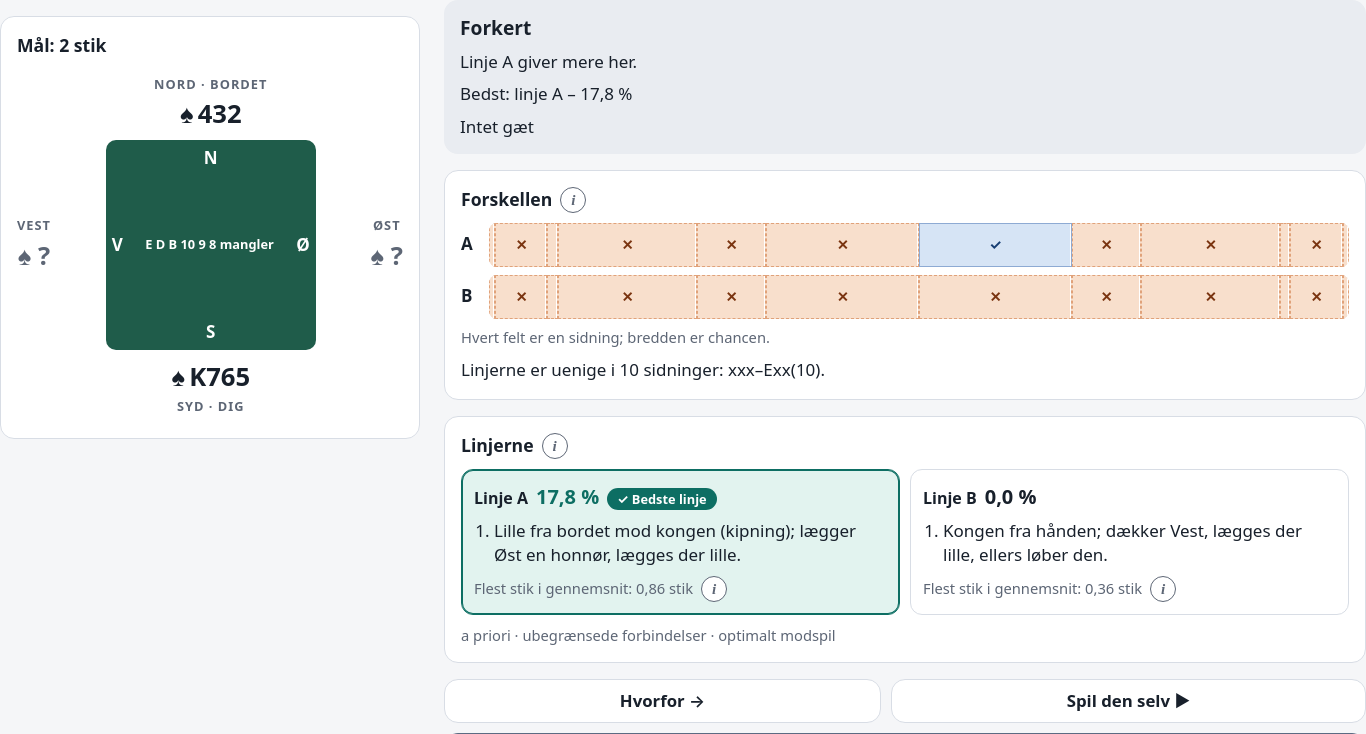
Sidningstabellen med antal og chance pr. sidning (SPEC-notation-sidninger.md) › Facit bruger samme tabel under "Hvorfor"
Click the button "Hvorfor →": (662, 701) x1=444 y1=679 x2=881 y2=723
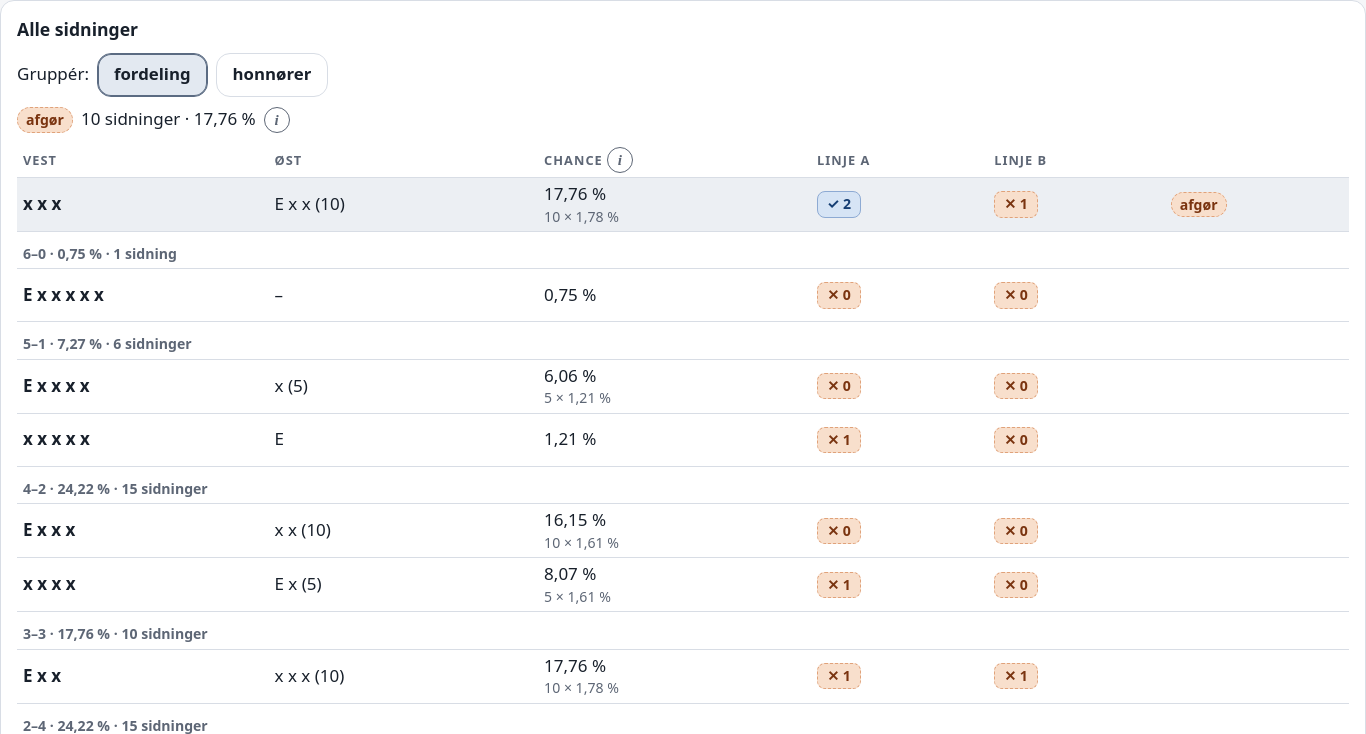
Now the text with class "fb-each" in the row of "E x x (10)" reads "10 × 1,78 %", box x1=544 y1=206 x2=619 y2=226
